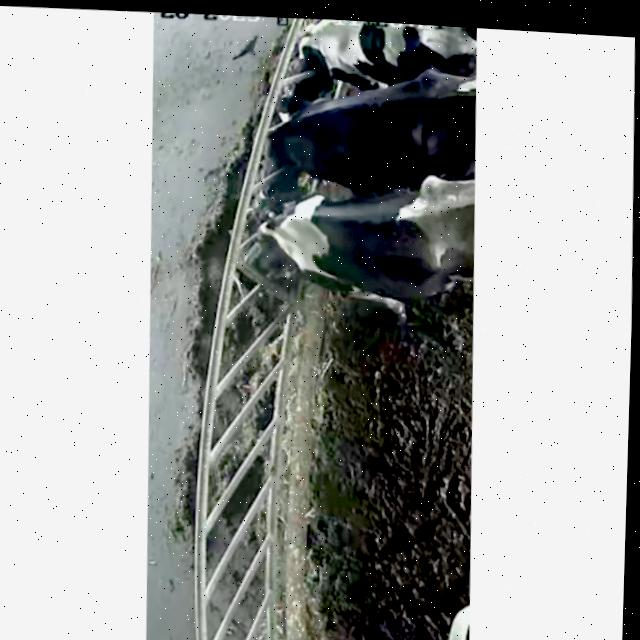eat: (196, 182, 359, 297), (213, 76, 356, 185), (252, 15, 381, 80)
